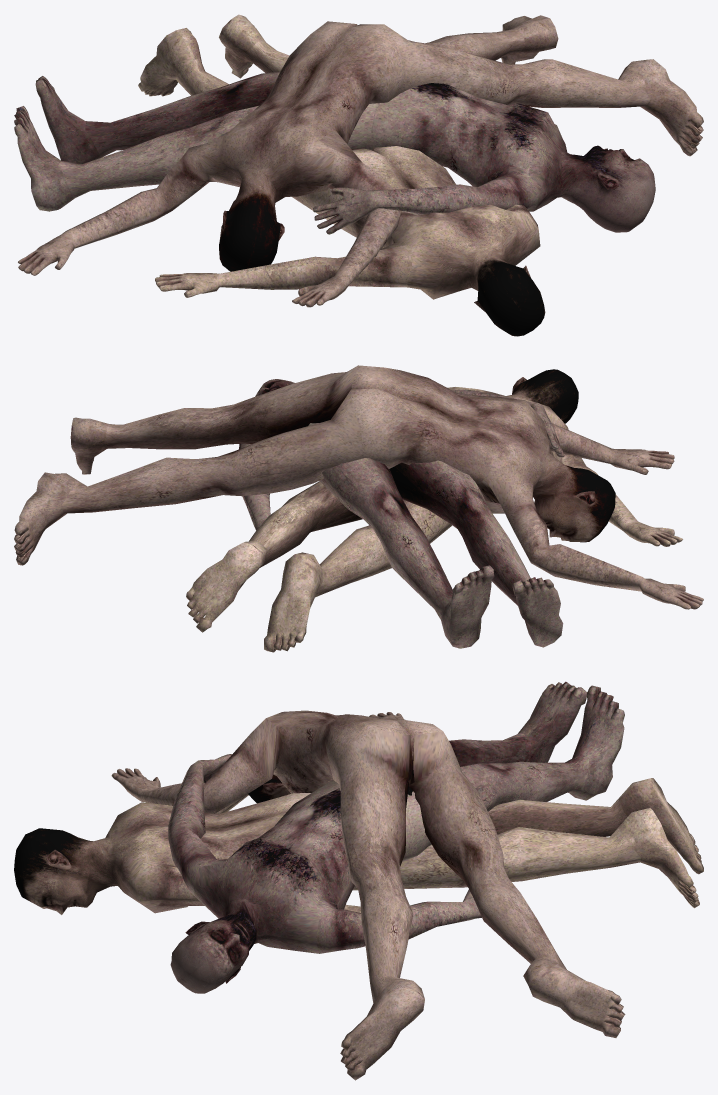
The model's file is corpse_pile1.dae.
The picture shows the model from 3 angles, top to bottom: view 1: azimuth 30°, elevation 25°; view 2: azimuth 150°, elevation 25°; view 3: azimuth 270°, elevation 25°; orthographic projection. The views are drawn at different scales.
Visible parts, largest first — view 1: polySurface1, polySurface2, polySurface3; view 2: polySurface1, polySurface2, polySurface3; view 3: polySurface1, polySurface2, polySurface3.
Part boxes in pixels (bbox=[...]): polySurface1: bbox=[18, 15, 703, 307]; polySurface2: bbox=[14, 72, 655, 234]; polySurface3: bbox=[138, 14, 545, 336]; polySurface1: bbox=[14, 365, 703, 609]; polySurface2: bbox=[239, 379, 564, 648]; polySurface3: bbox=[186, 369, 682, 652]; polySurface1: bbox=[111, 710, 625, 1080]; polySurface2: bbox=[168, 681, 624, 993]; polySurface3: bbox=[14, 778, 703, 914].
Bounding box in the file's own units: 2.27 × 0.6362 × 1.98.
